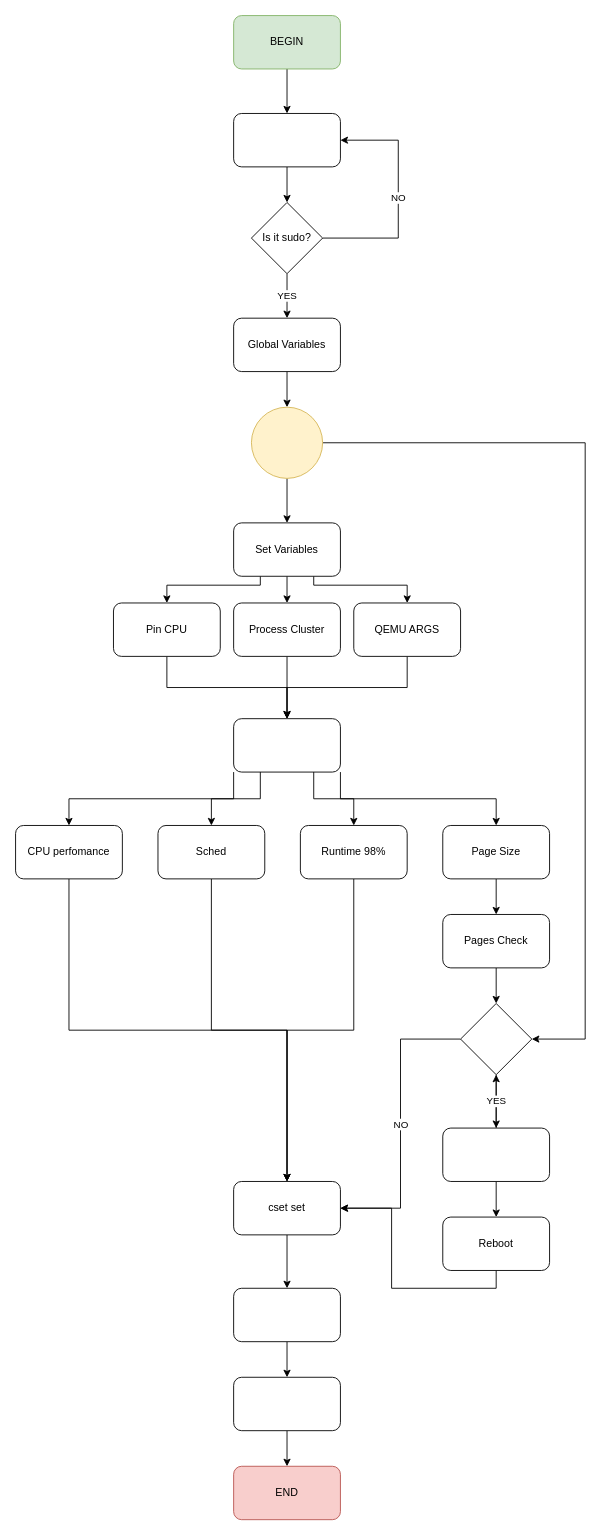
This 608x1535 diagram has some shape labels left out. The centre of each missing label's shape, as x and y in pixels:
Check SU: the point at 286,140
config.json: the point at 287,442
cset QEMU: the point at 286,1314
Edit need?: the point at 496,1039
Free resources: the point at 286,1403
Grub editing: the point at 496,1154
Launch Tunned: the point at 286,745
